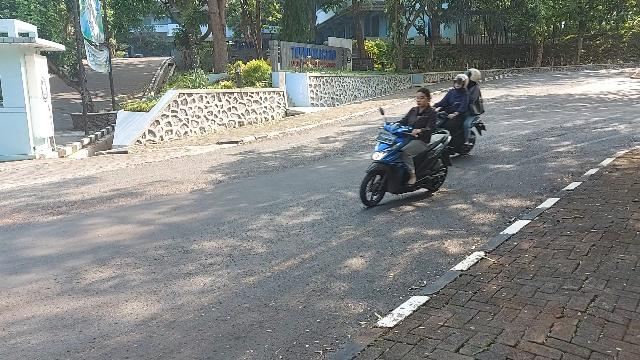helm: (454, 75, 470, 90), (465, 70, 482, 84)
motor: (361, 108, 454, 208)
non-helm: (417, 89, 431, 107)
